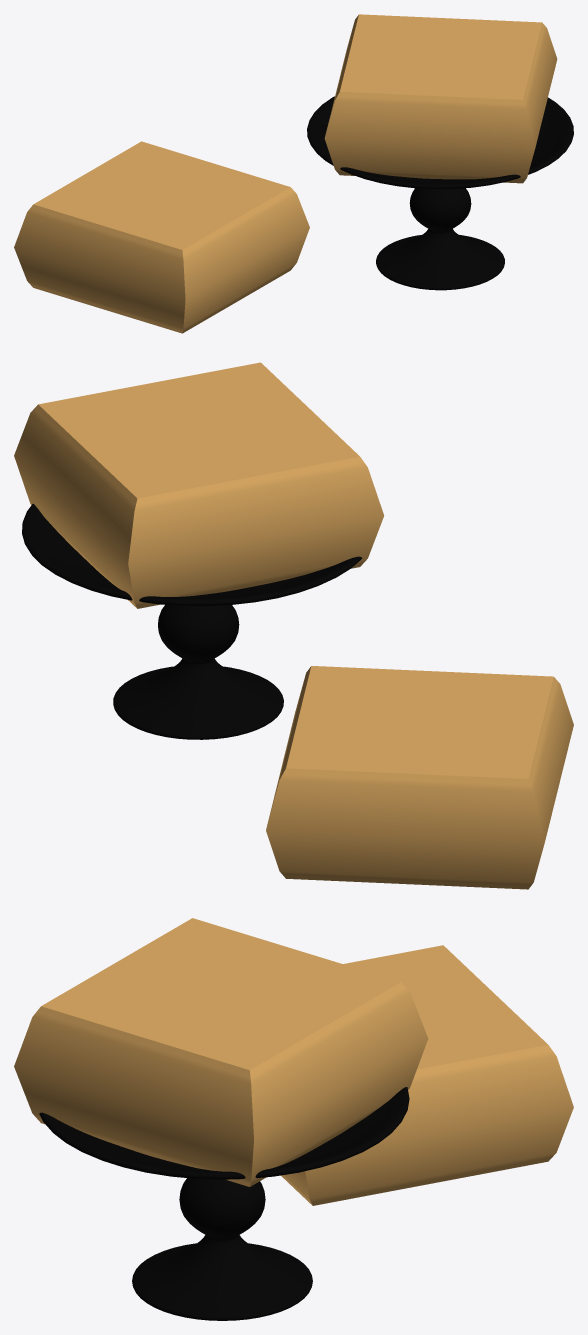
The model's file is Cheese.FBX.
The picture shows the model from 3 angles, top to bottom: view 1: azimuth 30°, elevation 25°; view 2: azimuth 150°, elevation 25°; view 3: azimuth 270°, elevation 25°; orthographic projection. The views are drawn at different scales.
Visible parts, largest first — view 1: Cezz2, Box002, Line001; view 2: Box002, Cezz2, Line001; view 3: Box002, Cezz2, Line001.
Boxes of the visible parts, <box> form: Cezz2: <box>14,141,309,333</box>; Box002: <box>324,14,557,183</box>; Line001: <box>307,96,573,290</box>; Box002: <box>14,362,384,608</box>; Cezz2: <box>266,666,573,889</box>; Line001: <box>22,504,361,739</box>; Box002: <box>14,918,428,1186</box>; Cezz2: <box>281,945,573,1205</box>; Line001: <box>39,1087,409,1320</box>.
Bounding box in the file's own units: 1036 × 438 × 760.
